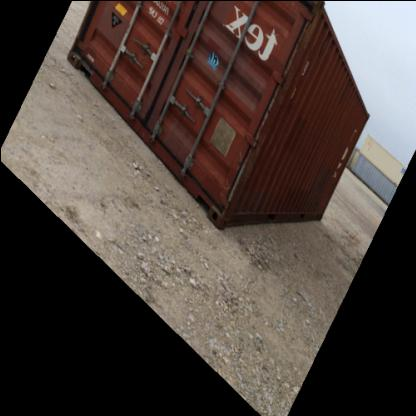Damage: (280, 2, 302, 78), (251, 82, 278, 140), (227, 148, 247, 202)
